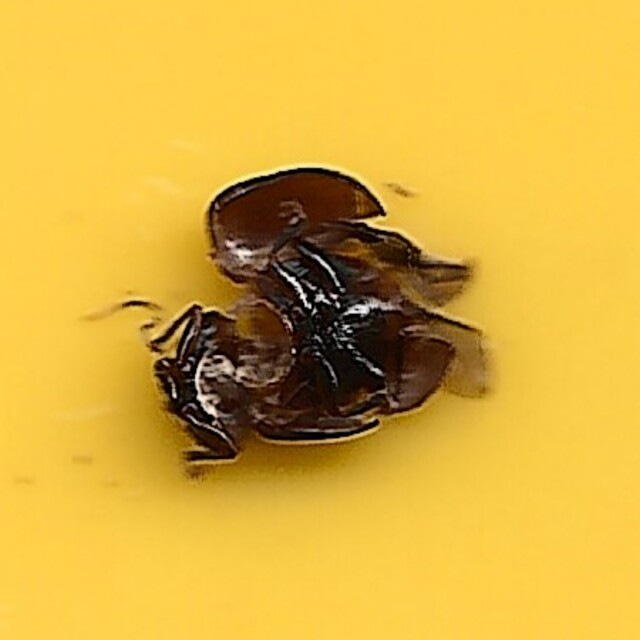Coleoptera: (142, 160, 498, 480)
